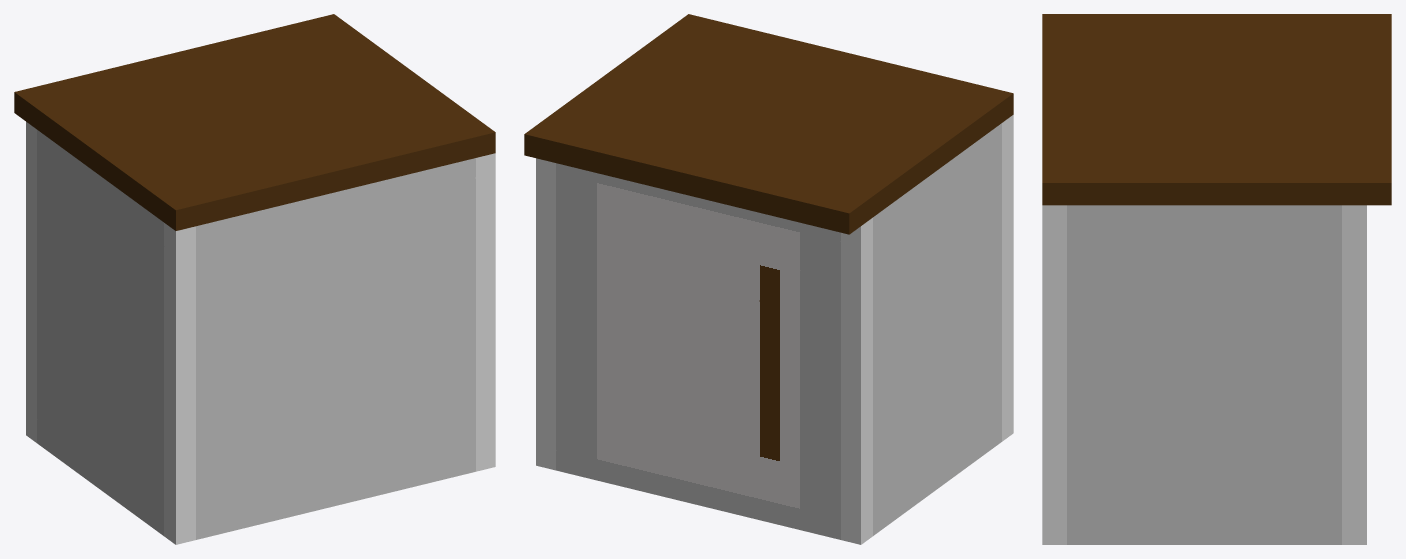
The model's file is counter.gltf.
3 views of the same model, side by side, from view 1: azimuth 30°, elevation 25°; view 2: azimuth 150°, elevation 25°; view 3: azimuth 270°, elevation 25° (orthographic). The views are drawn at different scales.
Visible parts, largest first — view 1: cube (×2); view 2: cube (×2); view 3: cube (×2).
Part boxes in pixels (x1,y1,x2,y2): cube (×2): [14, 14, 495, 544]; cube (×2): [524, 14, 1013, 544]; cube (×2): [1042, 14, 1391, 544].
Size of the model in its own units: 1 by 1 by 0.875.
2 materials, 2 textured.
